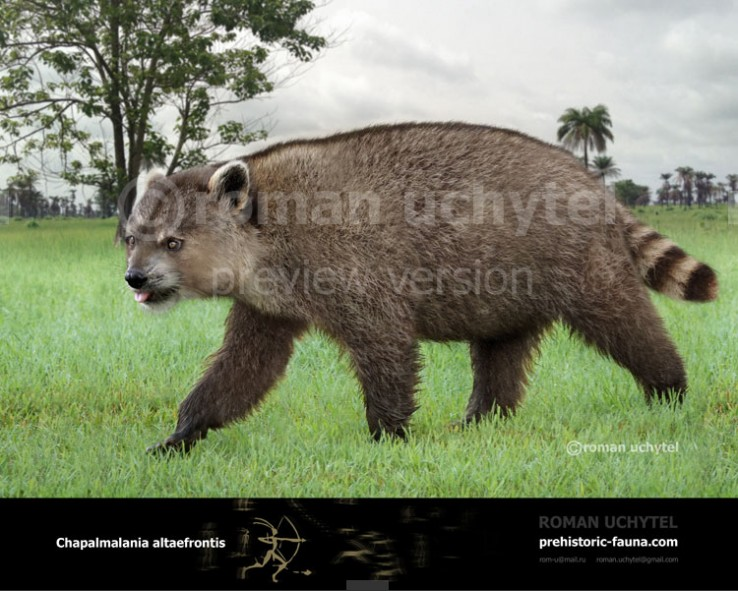raccoon: (104, 121, 722, 453)
